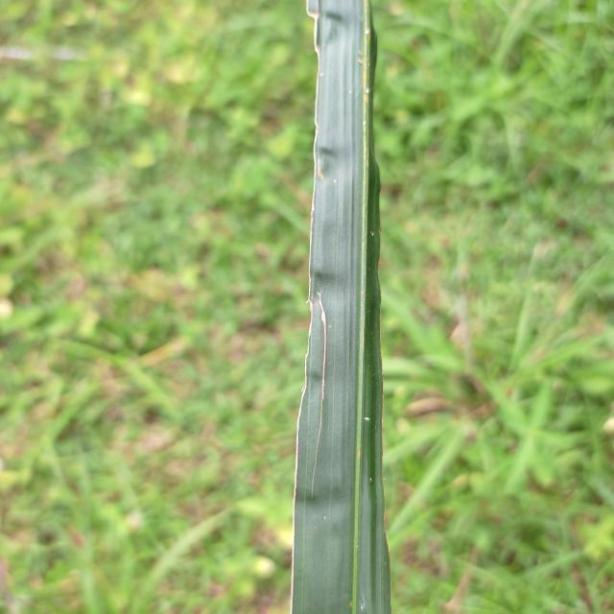Boron: (291, 0, 389, 614)
